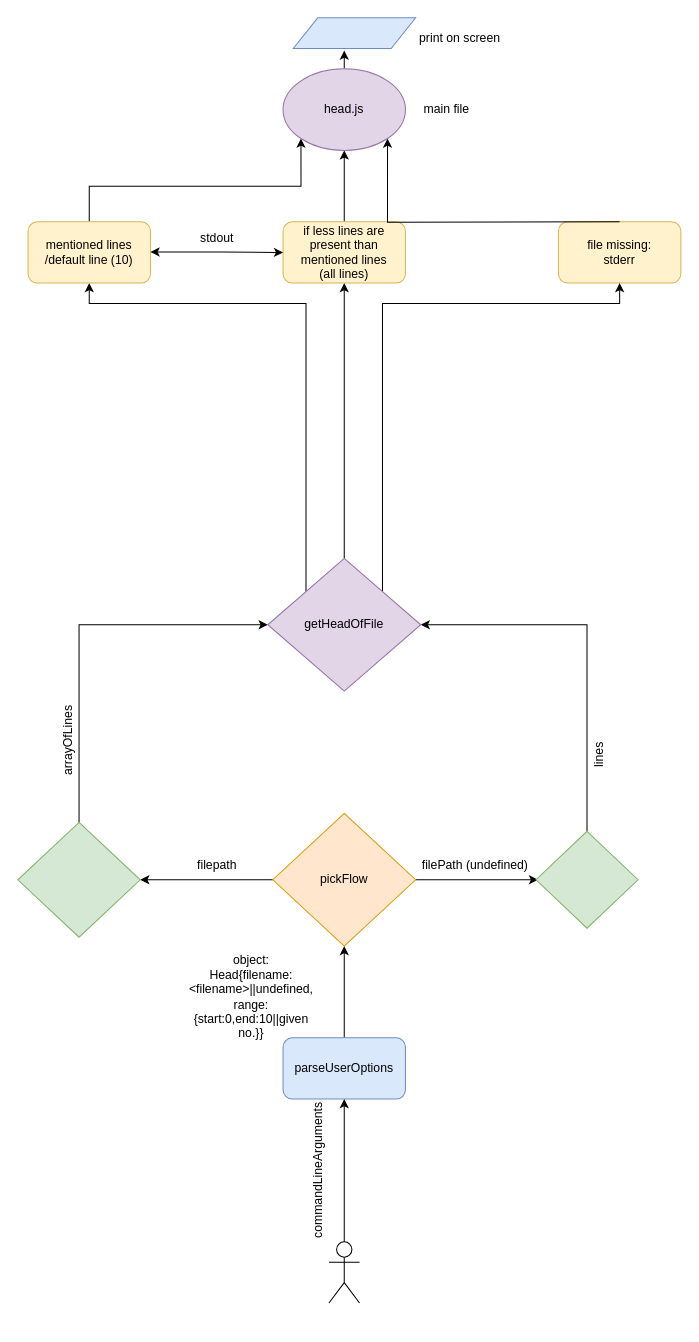
Some shapes in this 699 by 1342 pixel diagram are drawn without their labels. The centre of each missing label's shape, as x and y in pixels:
"filterRequiredHead" belongs at (78,879).
"output" belongs at (354,32).
"standard input" belongs at (586,879).
"userInput" belongs at (344,1272).
